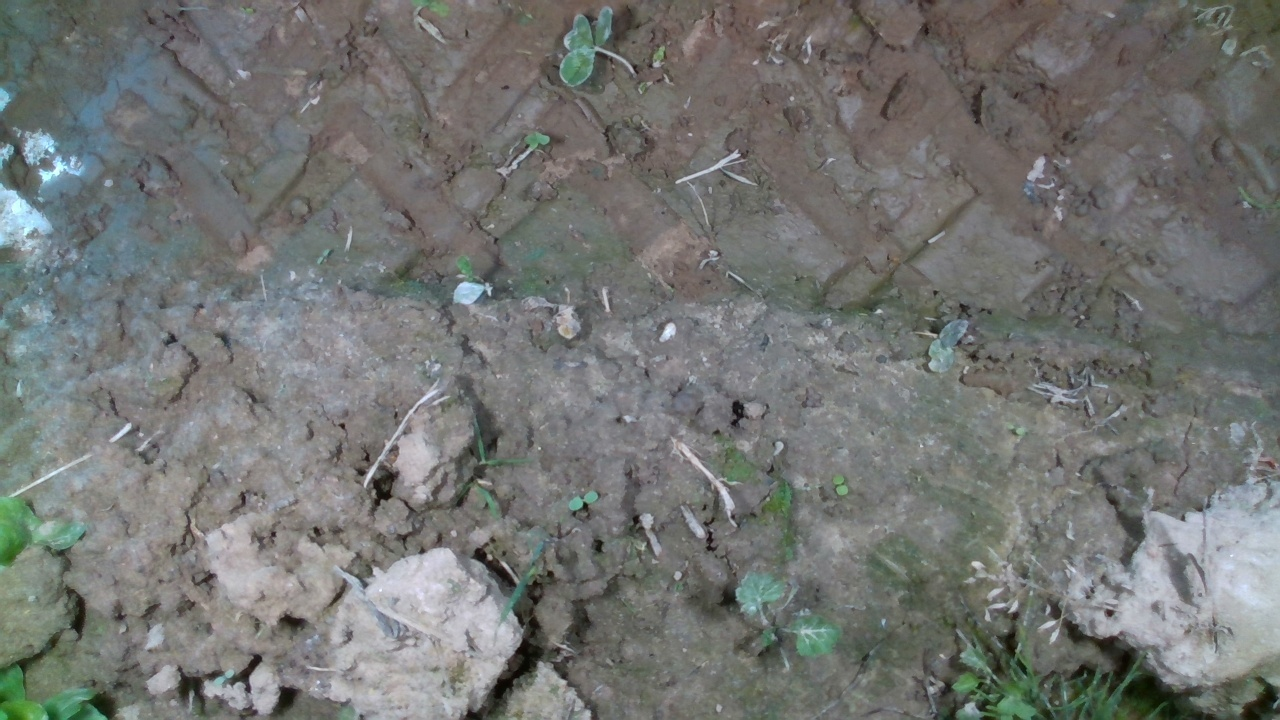weed: (567, 490, 599, 511), (831, 471, 848, 498)
